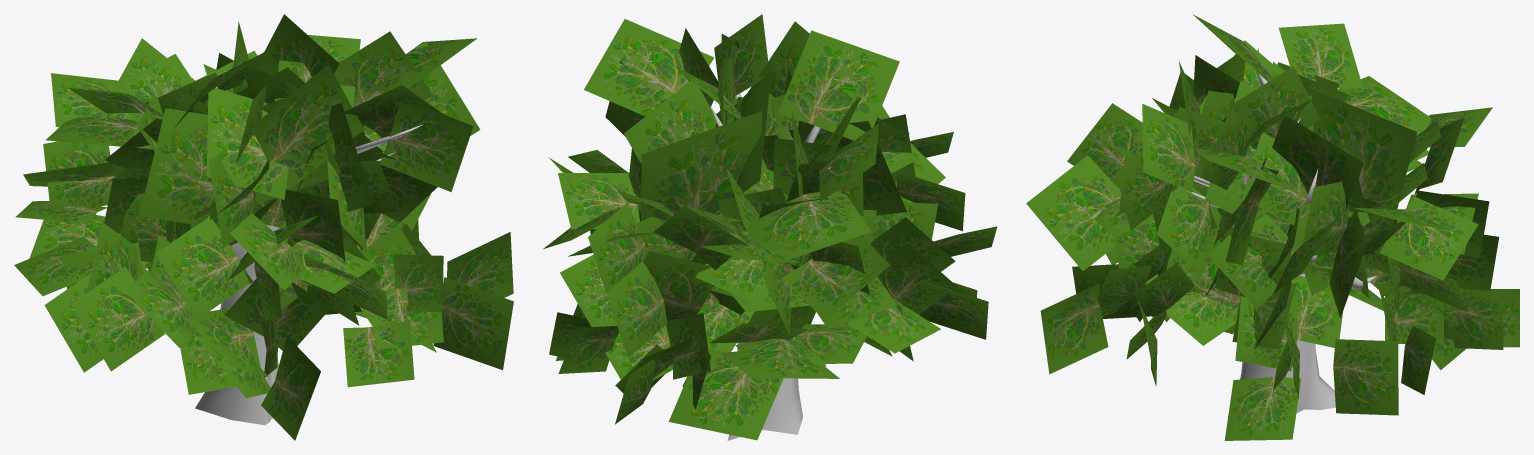
The model's file is R0_Park_Center_Tree_L2.fbx.
3 views of the same model, side by side, from view 1: azimuth 30°, elevation 25°; view 2: azimuth 150°, elevation 25°; view 3: azimuth 270°, elevation 25° (orthographic). The views are drawn at different scales.
Visible parts, largest first — view 1: R0_Park_Center_Tree_L2; view 2: R0_Park_Center_Tree_L2; view 3: R0_Park_Center_Tree_L2.
Part boxes in pixels (bbox=[...]): R0_Park_Center_Tree_L2: bbox=[14, 14, 513, 440]; R0_Park_Center_Tree_L2: bbox=[543, 14, 997, 440]; R0_Park_Center_Tree_L2: bbox=[1026, 14, 1519, 440].
Bounding box in the file's own units: 31.81 × 27.95 × 34.21.
